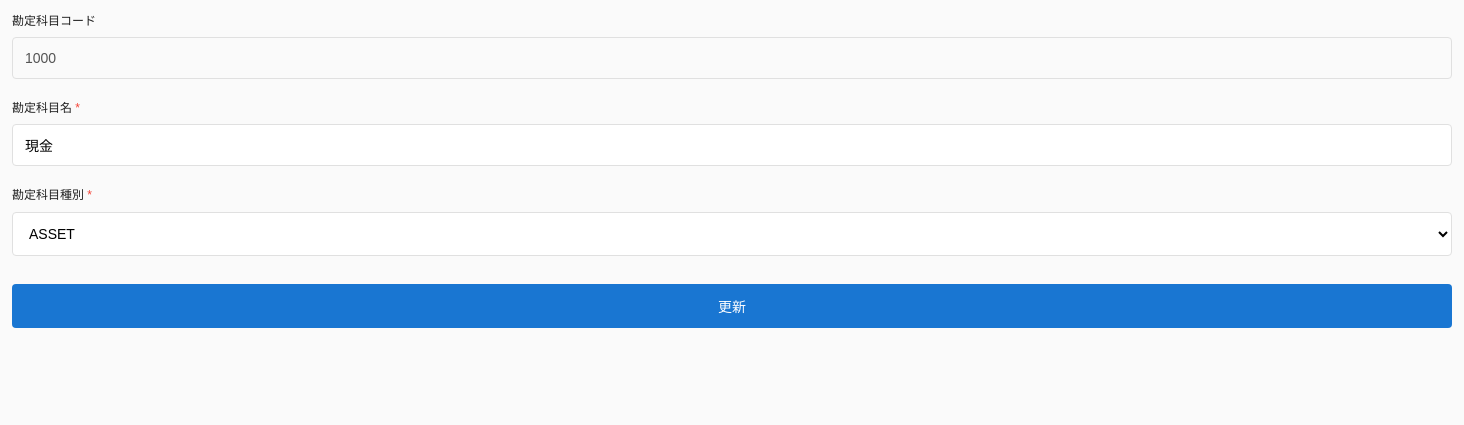
Test case: EditAccountForm › 更新失敗時のエラーメッセージ表示
What coordinates should you click on to do the following:
click the button with test id "edit-account-submit"
I would click on:
 (732, 306)
Its box is [12,284,1452,328].
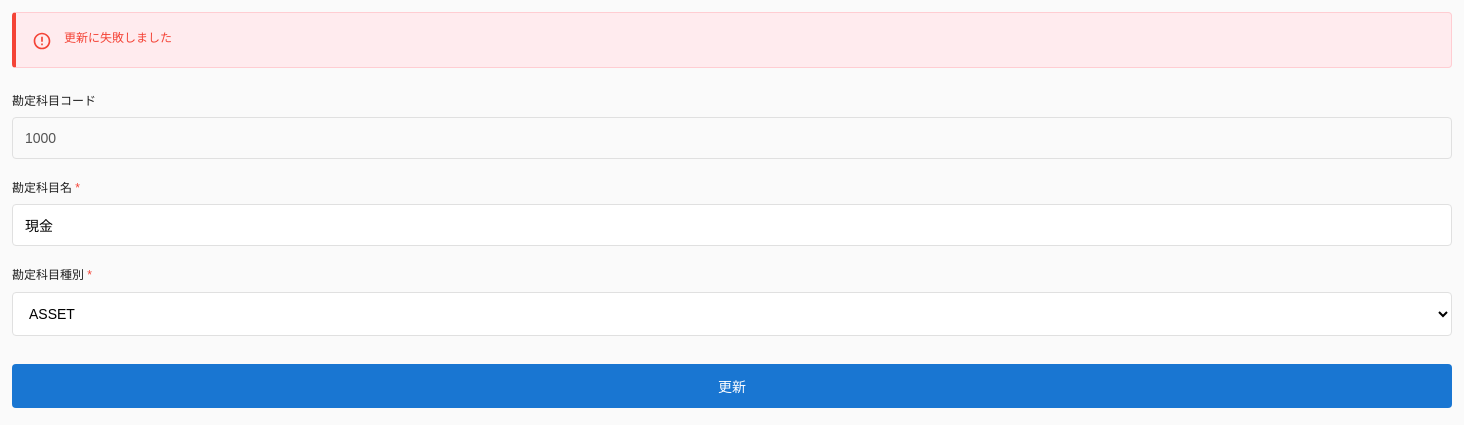
Expected: the message "更新に失敗しました" is shown, [12,12,1452,68]
Expected: the text "更新に失敗しました" is shown, [64,31,172,45]
